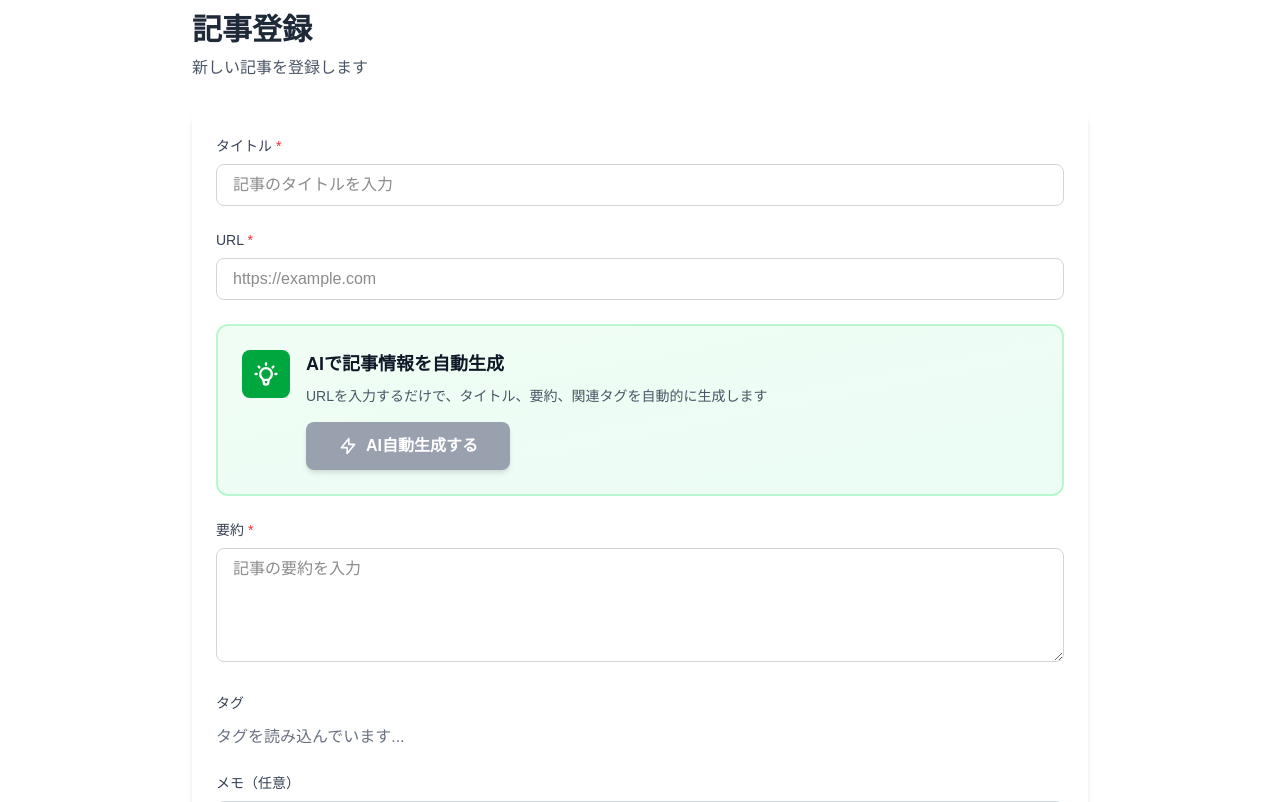
ArticleForm › バリデーション › URLの形式が不正な場合、エラーメッセージが表示される
Type "invalid-url" into the field labelled "URL *". click: (640, 279)
box: [216,258,1064,300]
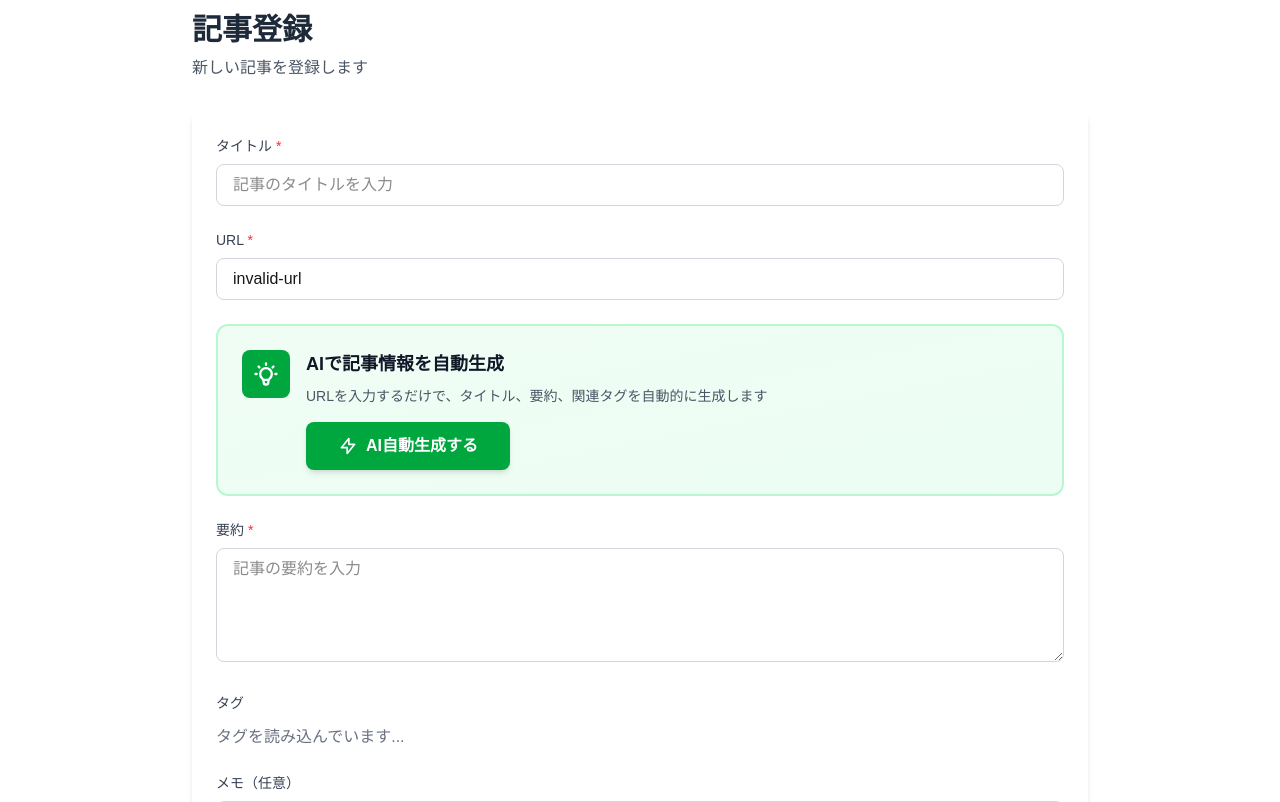
Leave the field labelled "URL *", box [216,258,1064,300]
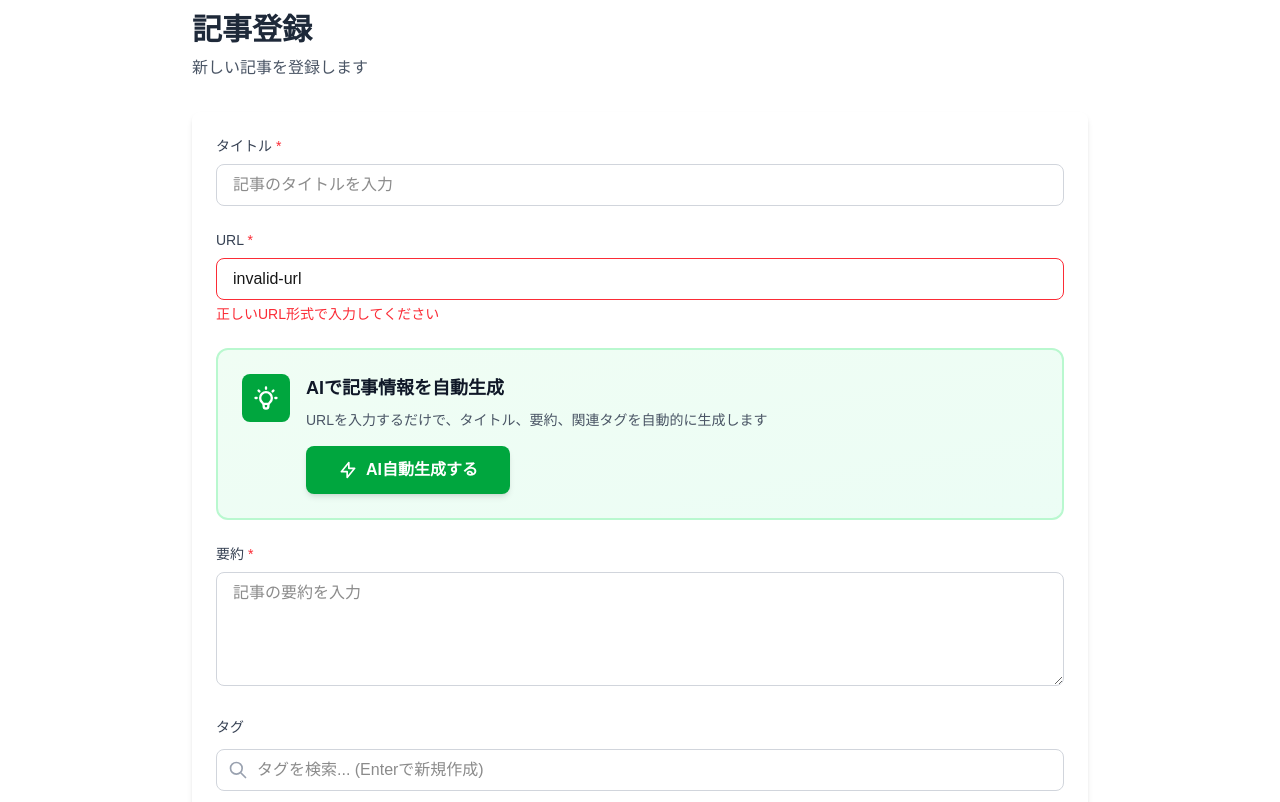
Expected: the text "正しいURL形式で入力してください" is shown, [216,306,439,322]
